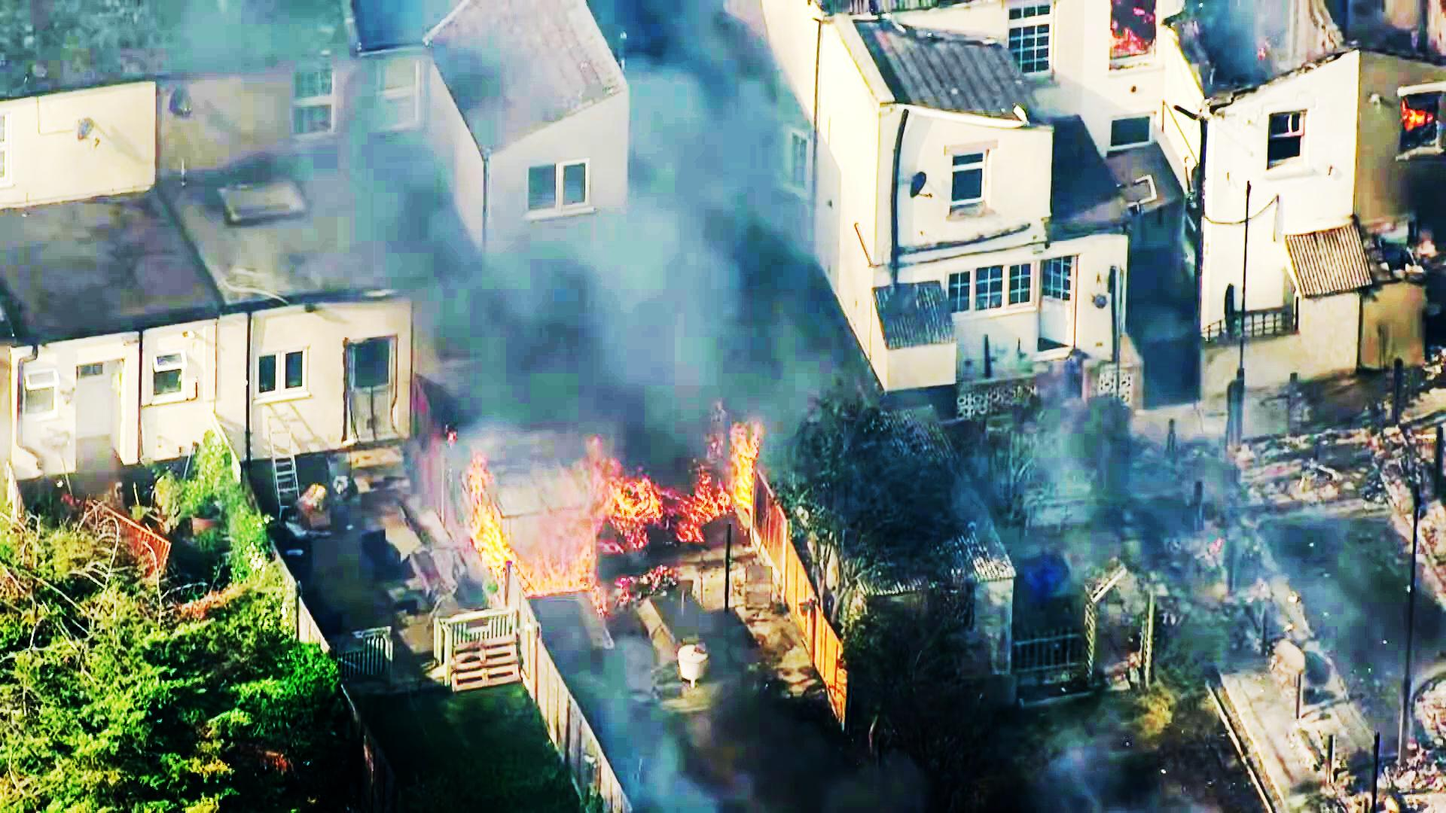fire: (438, 420, 767, 583)
